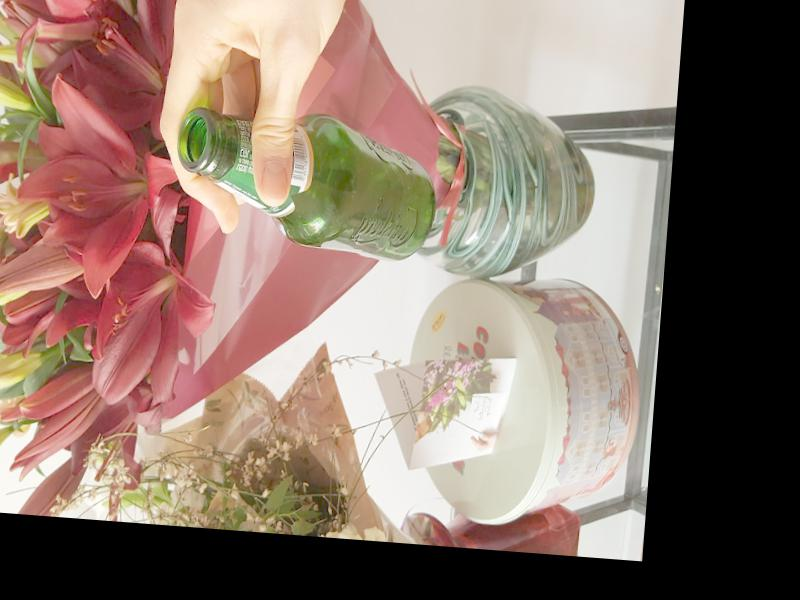Beer: (171, 103, 440, 265)
